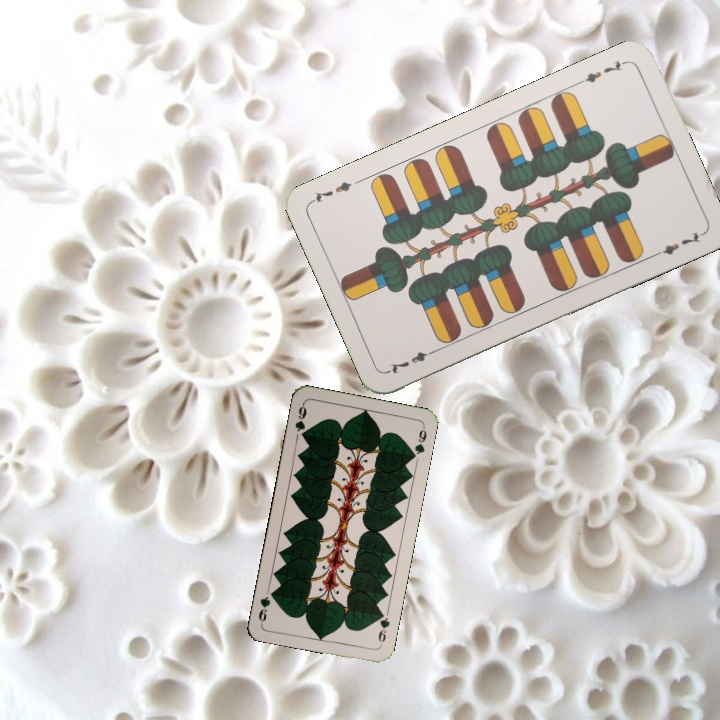E7: (384, 345, 440, 377), (573, 56, 629, 87)
G9: (374, 607, 393, 648), (291, 400, 309, 441)
